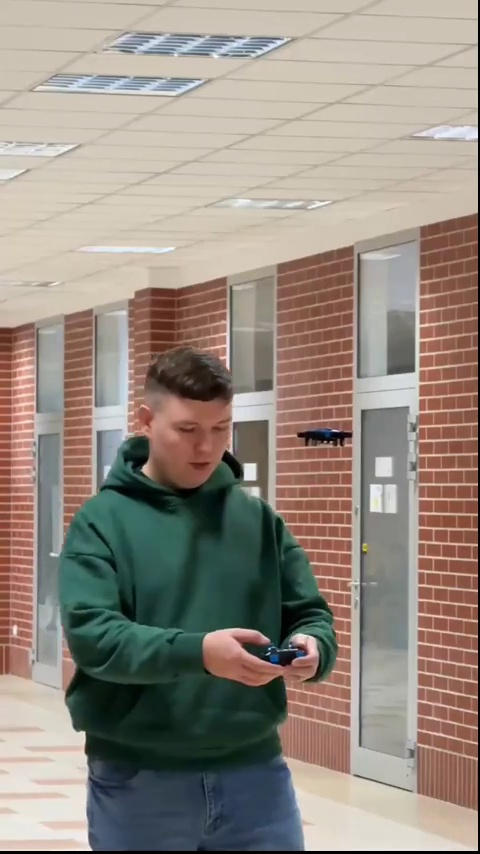drone: (297, 424, 353, 447)
no vest: (70, 345, 335, 848)
